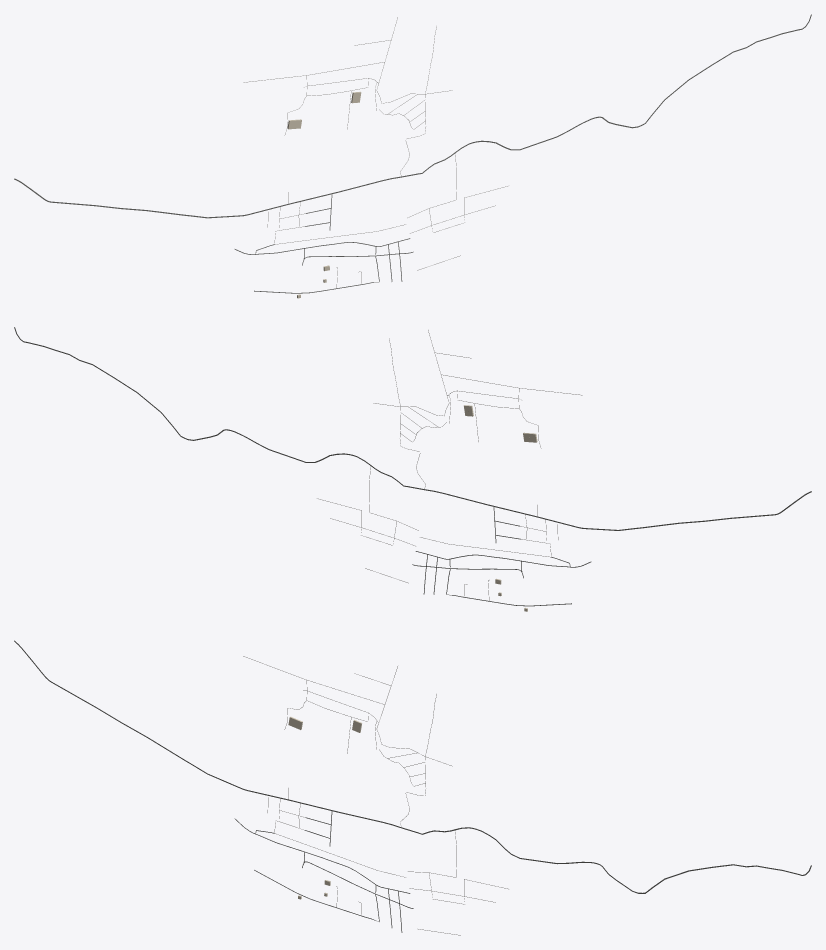
File: historic-palestine-13_24_3547_3187.glb
3 renders of one model, top to bottom at view 1: azimuth 30°, elevation 25°; view 2: azimuth 150°, elevation 25°; view 3: azimuth 330°, elevation 25°, orthographic.
Visible parts, largest first — view 1: Road شارع أريحا الخضراء; view 2: Road شارع أريحا الخضراء; view 3: Road شارع أريحا الخضراء.
Part boxes in pixels (x1,y1,x2,y2): Road شارع أريحا الخضراء: [14, 14, 811, 218]; Road شارع أريحا الخضراء: [14, 327, 811, 530]; Road شارع أريحا الخضراء: [14, 640, 811, 893].
Size of the model in its own units: 3792 by 1210 by 8.7.
